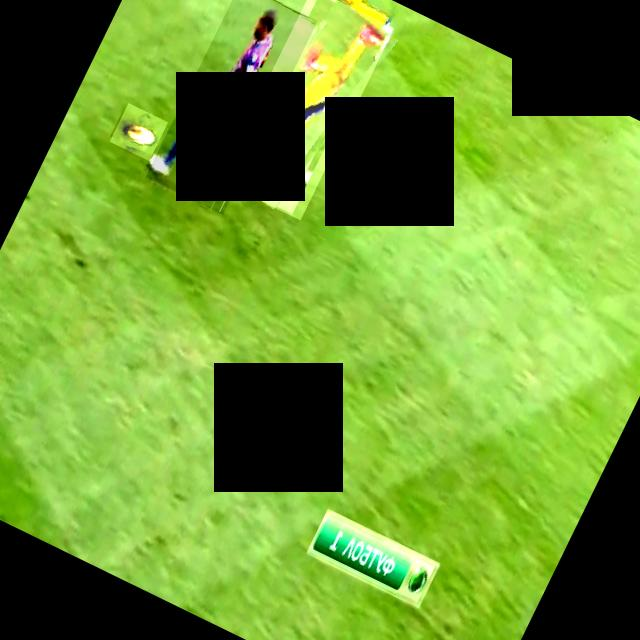ball: (108, 102, 166, 160)
soccer-player: (217, 0, 393, 218), (144, 0, 316, 213), (320, 0, 398, 51)
